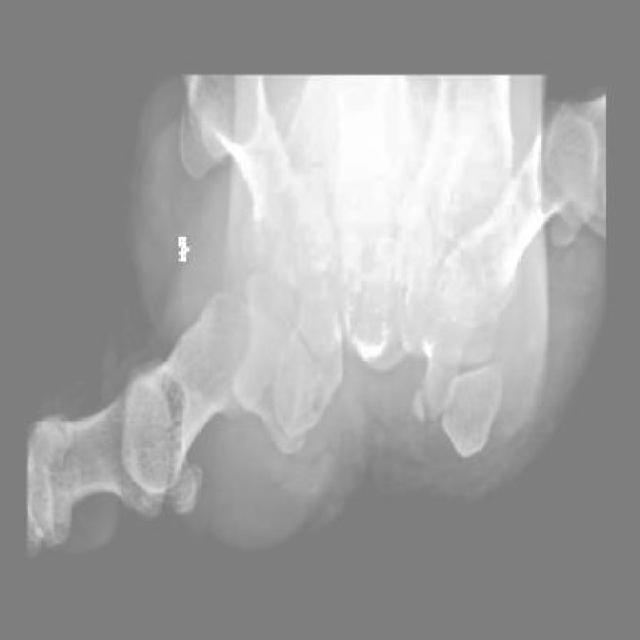Fracture: (406, 388, 440, 430)
